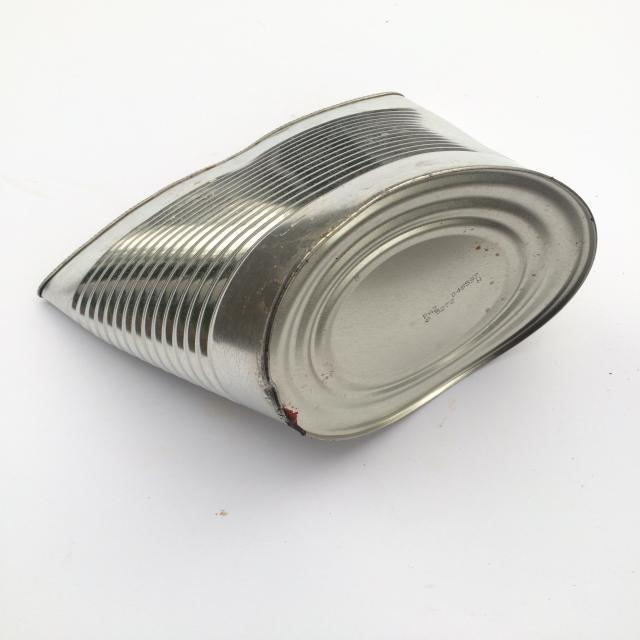metal: (36, 90, 598, 441)
